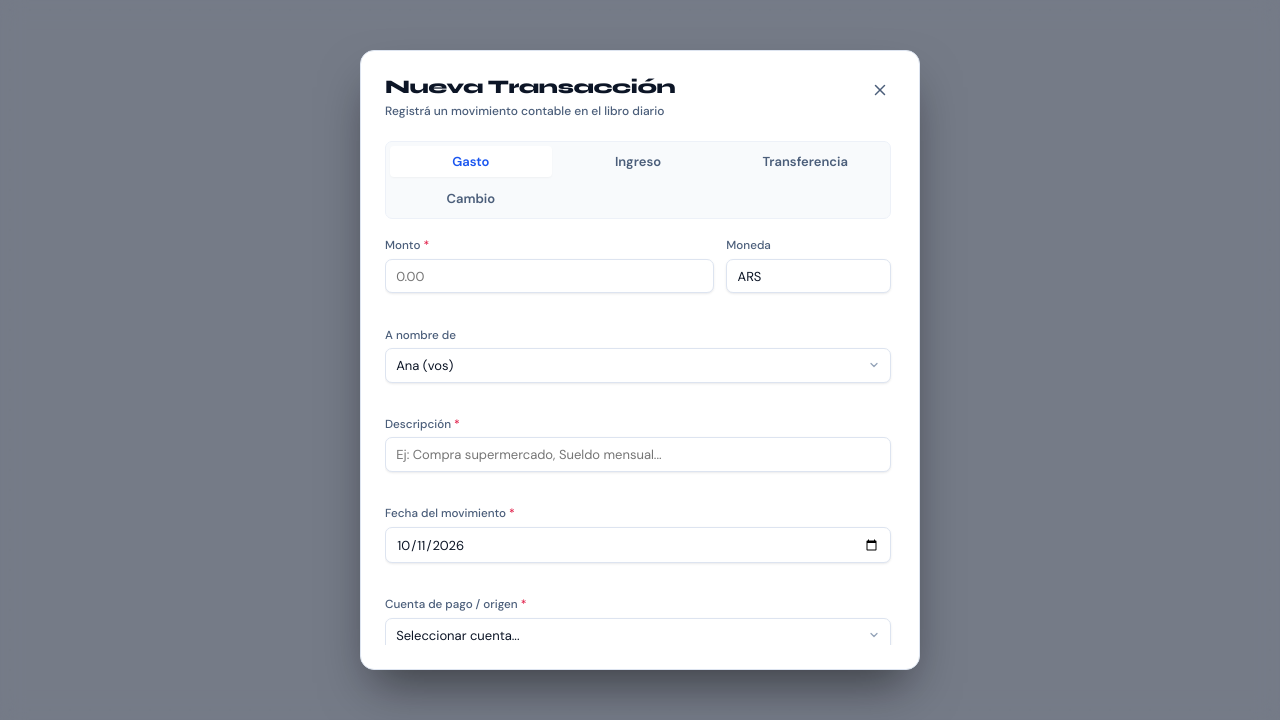
Scenario: TransactionFormModal — cuentas propias y pregunta de deuda (plan 26) › titular con una cuenta personal (RN-9) y selector «a nombre de» (AC-9) › con una personal de origen el titular queda fijo en el dueño y deshabilitado
This screenshot has width=1280, height=720.
Select "Juan" in the dropdown labelled "A nombre de" at (638, 366), box [385,348,891,383]
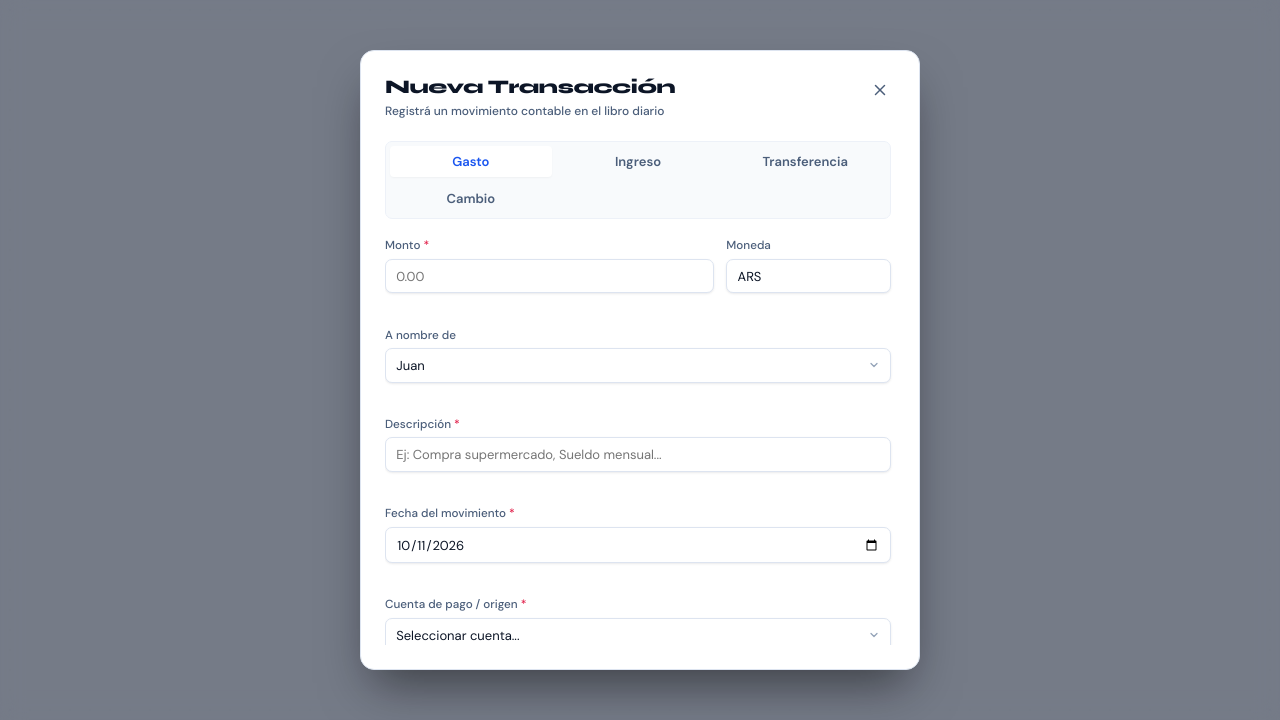
Select "Banco Ana (asset) · Compartida · reparto-demo" in the dropdown labelled "Cuenta de pago / origen *" at (638, 635), box [385,618,891,653]
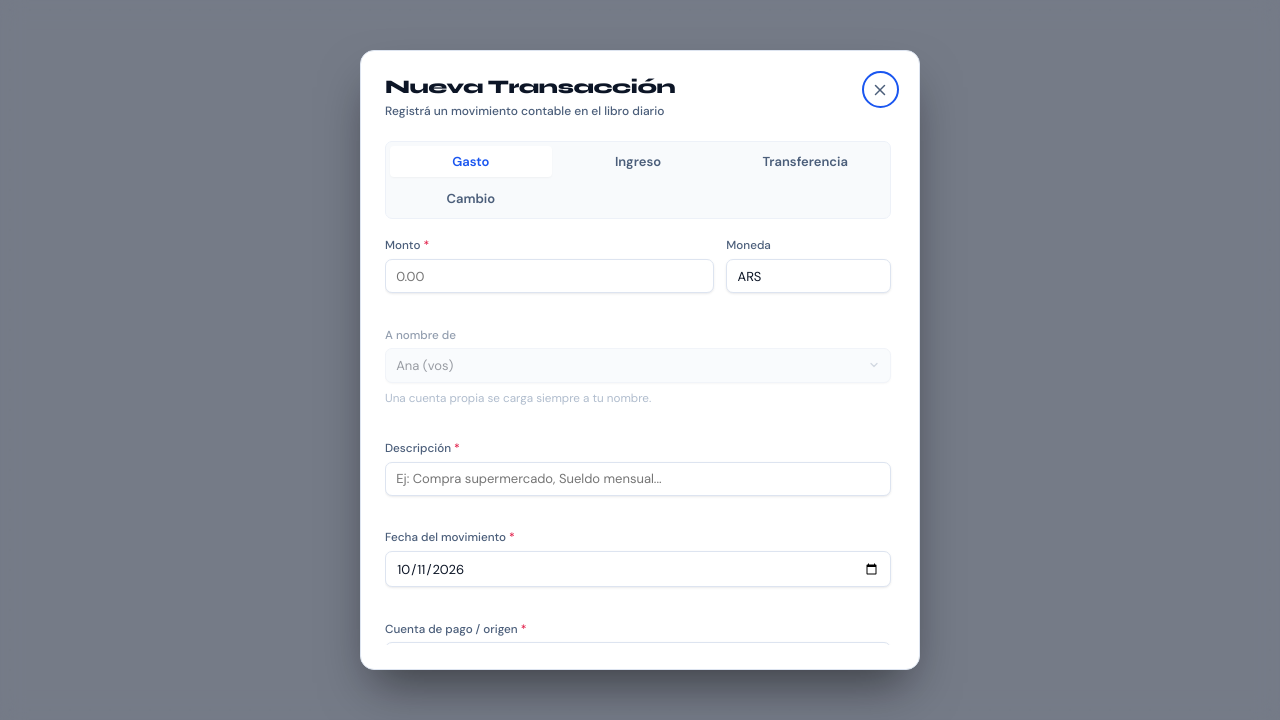
Check: the dropdown labelled "A nombre de" is disabled, box [385,348,891,383]
Check: the text "Una cuenta propia se carga siempre a tu nombre." is shown, box [385,390,651,406]
